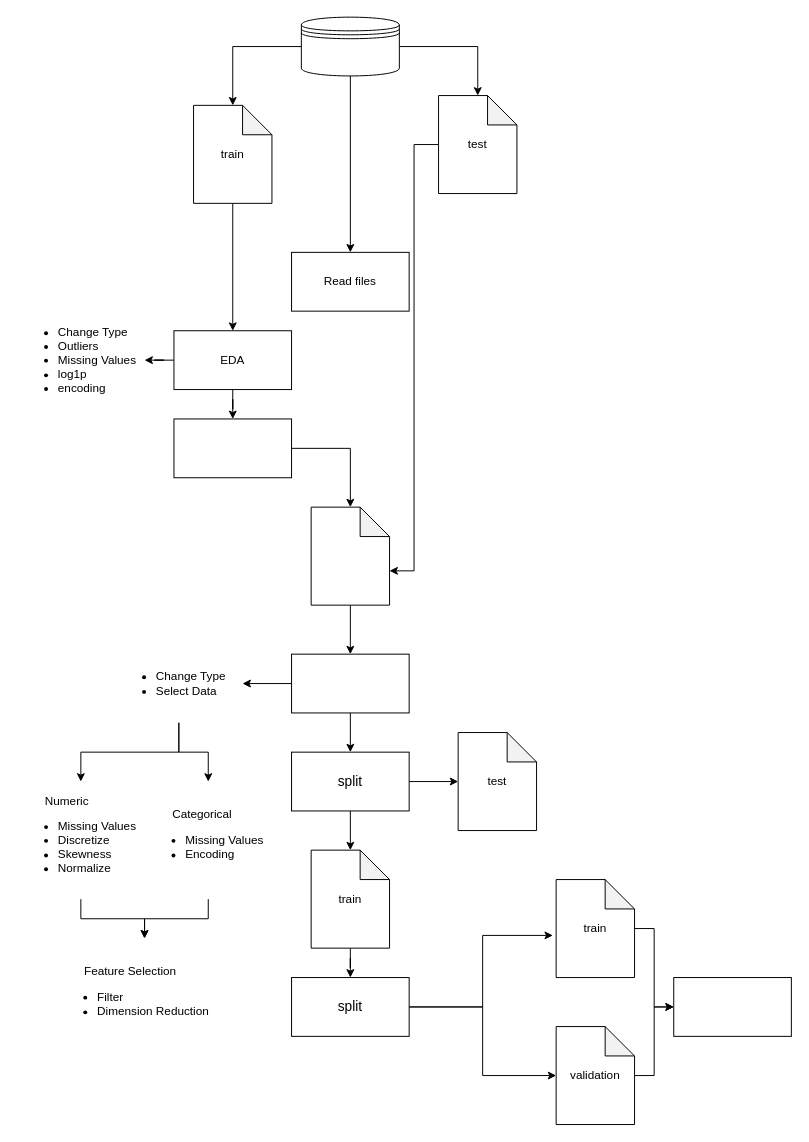
The diagram is 809 pixels wide and 1142 high, and some of its shapes have lost their labels. Here are the shapes that lost their labels. From the top down, the box of each, then its label:
(300, 16, 399, 76): Kaggle House Prices
(173, 418, 292, 478): Drop Outliers
(310, 506, 390, 605): train + test
(291, 653, 409, 713): Data Preparation
(673, 977, 791, 1036): Model
